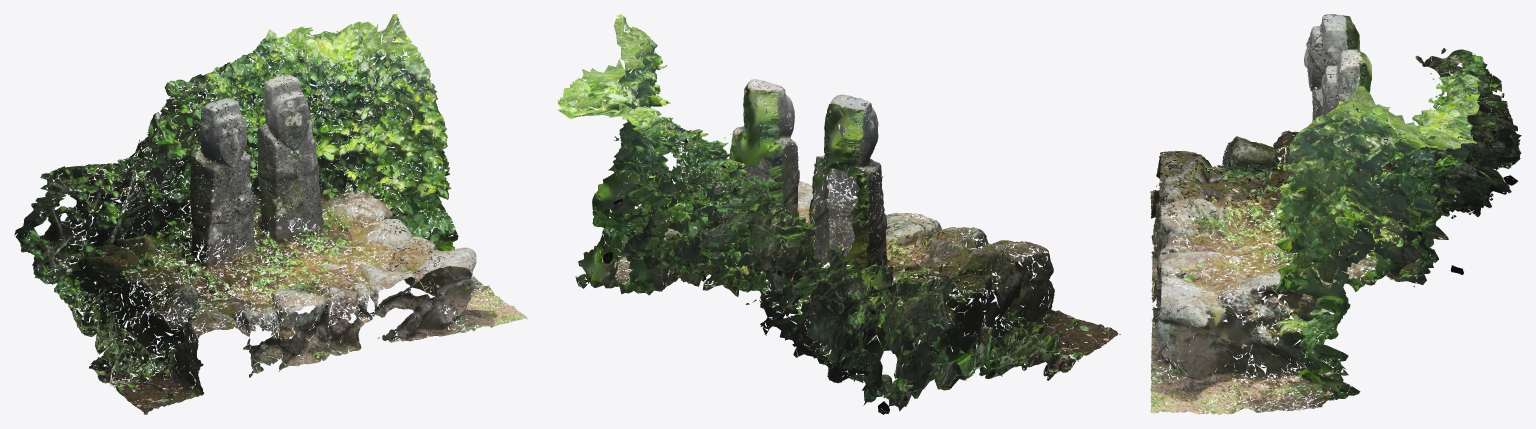
The model's file is tombs.glb.
The picture shows the model from 3 angles, left to right: view 1: azimuth 30°, elevation 25°; view 2: azimuth 150°, elevation 25°; view 3: azimuth 270°, elevation 25°; orthographic projection. The views are drawn at different scales.
Visible parts, largest first — view 1: Object_10, Object_2, Object_5, Object_13, Object_8, Object_16, Object_4, Object_12, Object_3, Object_14, Object_11, Object_7 (+4 smaller); view 2: Object_4, Object_2, Object_12, Object_14, Object_15, Object_6, Object_10, Object_11, Object_13, Object_7, Object_8, Object_3 (+4 smaller); view 3: Object_16, Object_8, Object_11, Object_4, Object_3, Object_6, Object_10, Object_12, Object_14, Object_2, Object_7, Object_5 (+4 smaller).
Part boxes in pixels (x1=…): Object_10: x1=65, y1=113, x2=474, y2=379; Object_2: x1=113, y1=100, x2=483, y2=387; Object_5: x1=66, y1=107, x2=470, y2=414; Object_13: x1=68, y1=116, x2=448, y2=408; Object_8: x1=14, y1=43, x2=527, y2=327; Object_16: x1=204, y1=32, x2=475, y2=314; Object_4: x1=136, y1=23, x2=416, y2=377; Object_12: x1=134, y1=14, x2=400, y2=370; Object_3: x1=26, y1=145, x2=507, y2=386; Object_14: x1=43, y1=21, x2=393, y2=369; Object_11: x1=33, y1=24, x2=468, y2=322; Object_7: x1=140, y1=28, x2=449, y2=221; Object_4: x1=558, y1=30, x2=1016, y2=290; Object_2: x1=758, y1=97, x2=1082, y2=360; Object_12: x1=613, y1=14, x2=985, y2=334; Object_14: x1=557, y1=78, x2=1048, y2=381; Object_15: x1=609, y1=18, x2=841, y2=335; Object_6: x1=558, y1=15, x2=992, y2=367; Object_10: x1=748, y1=104, x2=1057, y2=376; Object_11: x1=594, y1=23, x2=1003, y2=411; Object_13: x1=795, y1=108, x2=1110, y2=380; Object_7: x1=605, y1=67, x2=815, y2=328; Object_8: x1=575, y1=26, x2=957, y2=414; Object_3: x1=577, y1=196, x2=1078, y2=406; Object_16: x1=1159, y1=70, x2=1516, y2=408; Object_8: x1=1150, y1=93, x2=1521, y2=414; Object_11: x1=1158, y1=49, x2=1511, y2=411; Object_4: x1=1151, y1=18, x2=1490, y2=305; Object_3: x1=1196, y1=62, x2=1510, y2=414; Object_6: x1=1225, y1=19, x2=1471, y2=284; Object_10: x1=1151, y1=26, x2=1460, y2=379; Object_12: x1=1151, y1=24, x2=1489, y2=292; Object_14: x1=1227, y1=49, x2=1490, y2=287; Object_2: x1=1151, y1=14, x2=1452, y2=382; Object_7: x1=1277, y1=57, x2=1508, y2=269; Object_5: x1=1150, y1=14, x2=1371, y2=376.
Size of the model in its own units: 4.76 by 3 by 3.33.
2 materials, 2 textured.
